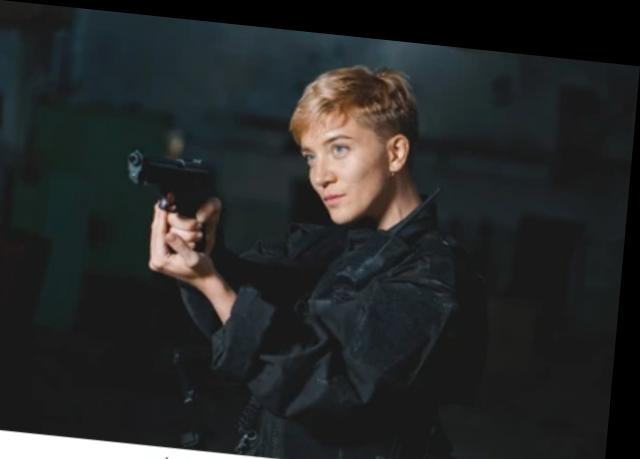other: (148, 48, 460, 439)
